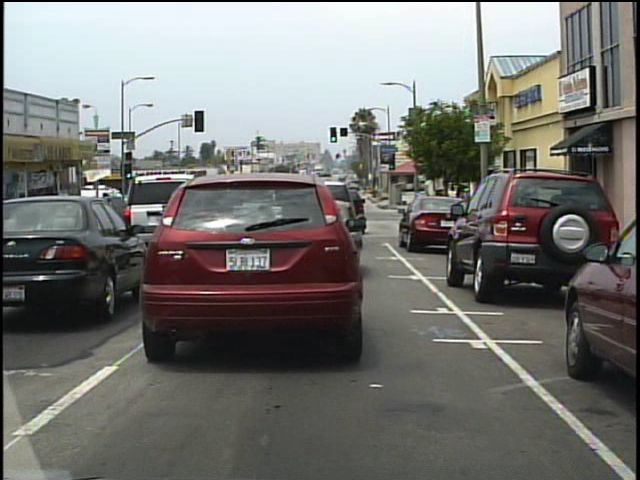person: (459, 187, 474, 220), (442, 190, 454, 227), (434, 192, 445, 228)
